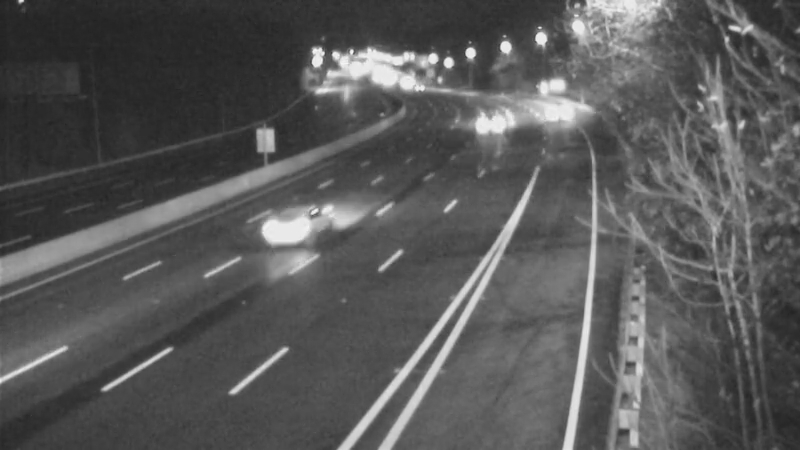vehicle: (244, 183, 324, 263), (397, 63, 447, 113), (532, 83, 582, 133), (466, 94, 516, 144)
